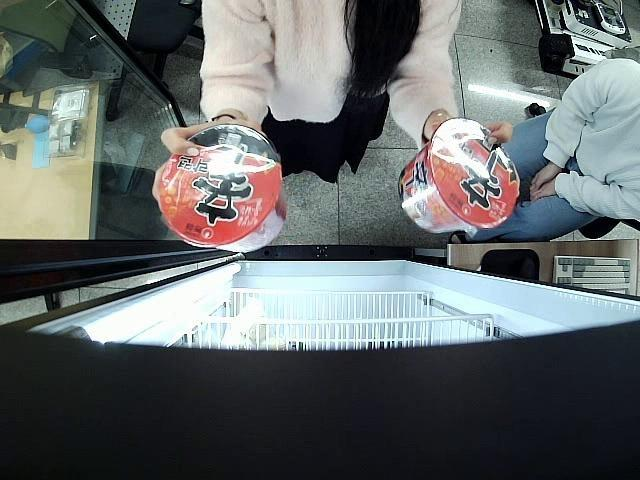01_ShinRamen_L: (159, 126, 290, 255), (394, 120, 520, 234)
